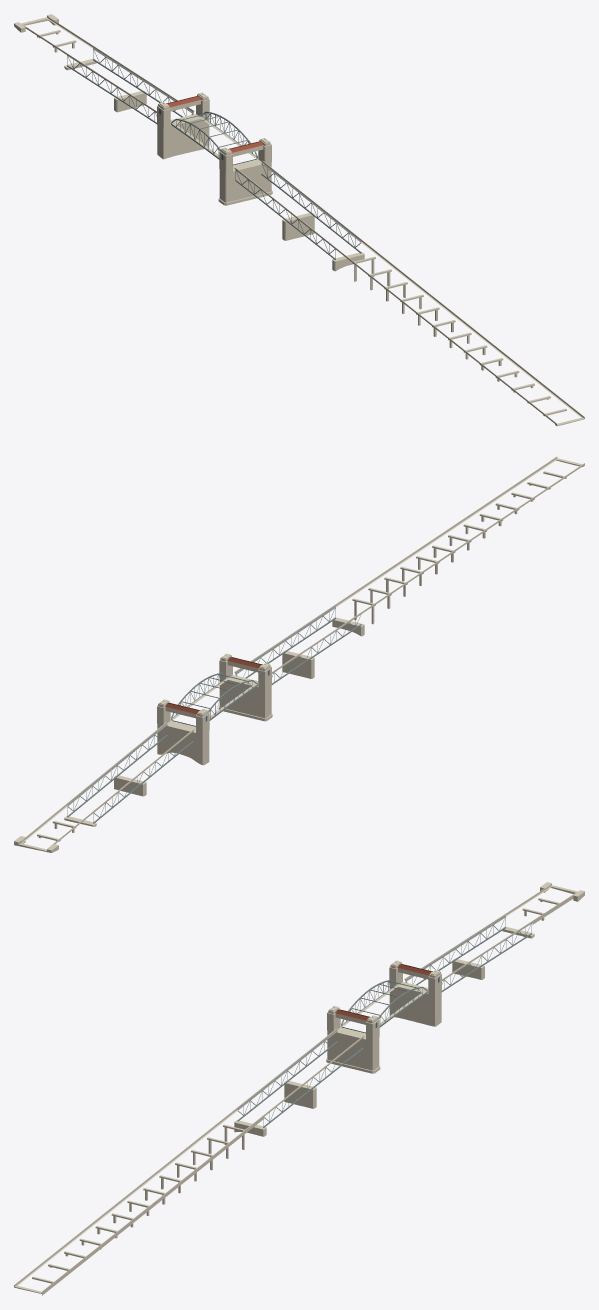
The model's file is van-burrard-bridge.glb.
The picture shows the model from 3 angles, top to bottom: view 1: azimuth 30°, elevation 25°; view 2: azimuth 150°, elevation 25°; view 3: azimuth 330°, elevation 25°; orthographic projection.
Visible parts, largest first — view 1: Burrard Bridge; view 2: Burrard Bridge; view 3: Burrard Bridge.
Boxes of the visible parts, x1,y1,x2,y2 form: Burrard Bridge: (14, 14, 584, 426); Burrard Bridge: (14, 456, 584, 852); Burrard Bridge: (14, 882, 584, 1295).
Bounding box in the file's own units: 45 × 48.25 × 864.
